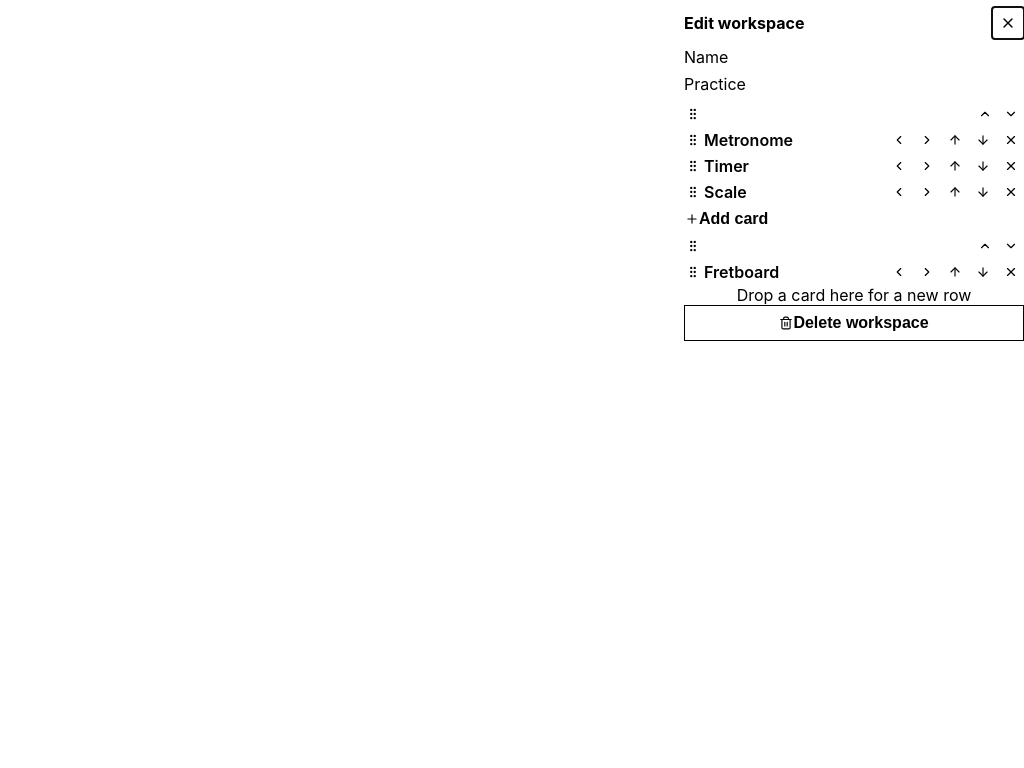
Scenario: a full row has no Add card; other rows only offer cards that fit the space left
The image size is (1024, 768).
Click the button with aria-label "Add card to row 1".
click(727, 218)  # box [684,204,769,232]
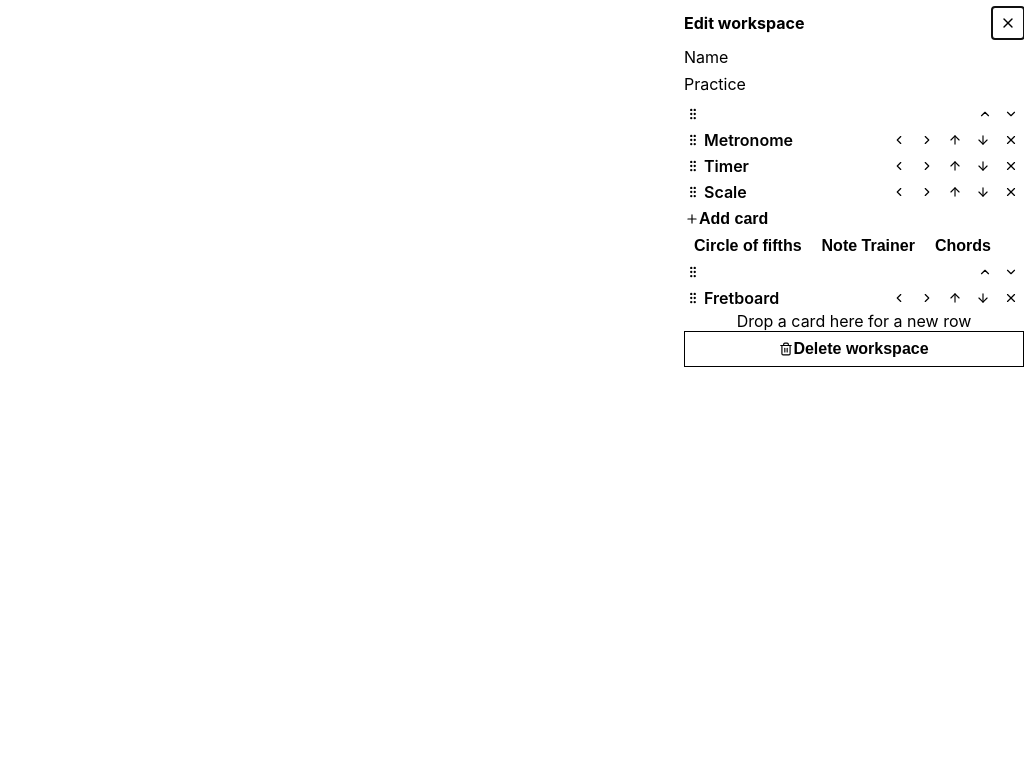
Result: the menu item "Chords" is shown at [925,232,1001,258]
